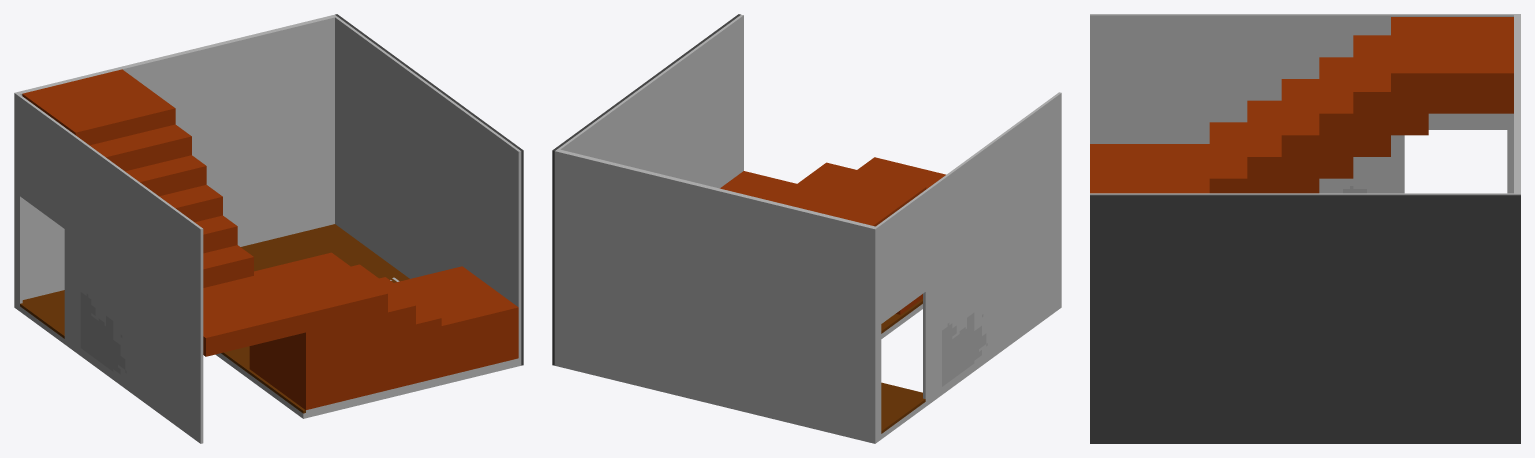
File: 4x2 third (1)-2.obj
3 renders of one model, left to right at view 1: azimuth 30°, elevation 25°; view 2: azimuth 150°, elevation 25°; view 3: azimuth 270°, elevation 25°, orthographic. The views are drawn at different scales.
Parts seen in each view (by area): view 1: 4x2 third (1)-2; view 2: 4x2 third (1)-2; view 3: 4x2 third (1)-2.
Part boxes in pixels (<box>): 4x2 third (1)-2: <box>14,14,523,443</box>; 4x2 third (1)-2: <box>552,14,1061,443</box>; 4x2 third (1)-2: <box>1090,14,1520,443</box>.
Bounding box in the file's own units: 126 × 80 × 126.
1 material, 1 textured.
